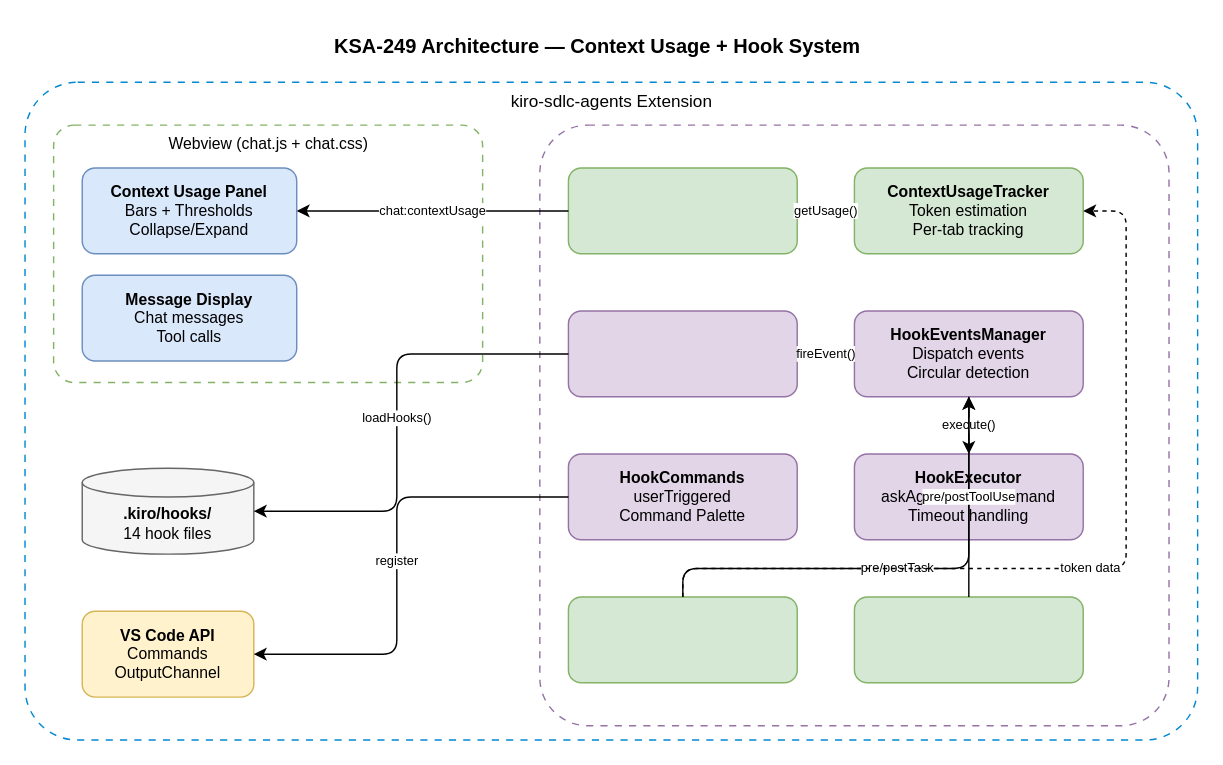
Some shapes in this 1223 by 765 pixel diagram are drawn without their labels. Here are the shapes that lost their labels. From the top down, the box of each, then its label:
(567, 167, 797, 254): ChatPanelProvider postMessage bridge State management
(567, 310, 797, 397): HookLoader Load + Validate FileSystemWatcher
(538, 124, 1169, 726): Extension Host
(567, 596, 797, 683): Pipeline Executor LangGraph nodes Tool interception
(853, 596, 1083, 683): MCP Tools External tool calls
